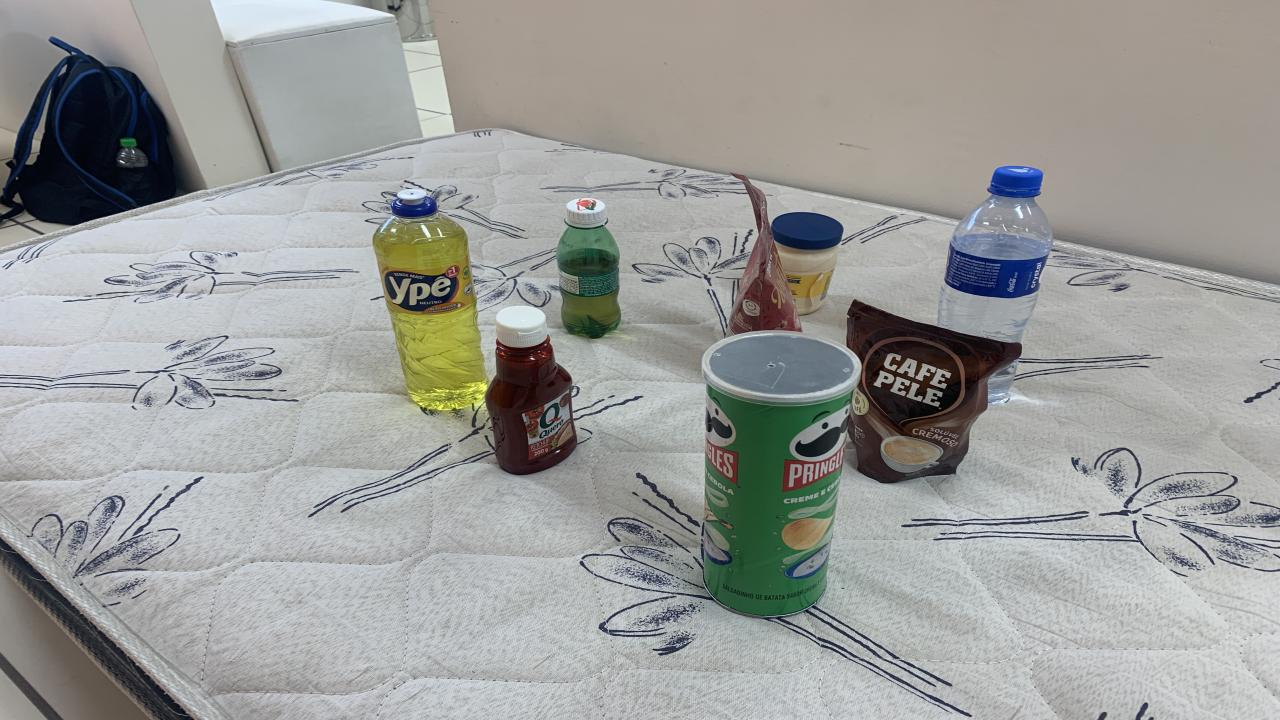Coffee-Pantry_Items: (848, 302, 1022, 484)
Detergent-Cleanup_Items: (372, 188, 488, 411)
Guarana-Drinks: (558, 197, 620, 338)
Ketchup-Pantry_Items: (485, 306, 578, 474)
Mayonnaise-Pantry_Items: (770, 212, 845, 315)
Pringles-Snacks: (702, 330, 862, 617)
Tomato_Sauce-Pantry_Items: (730, 174, 802, 334)
Water_Bottle-Drinks: (938, 165, 1052, 343), (988, 364, 1018, 405)
